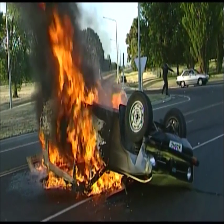fire_h: (47, 7, 105, 183), (88, 168, 123, 195), (44, 170, 71, 190)
fire_l: (112, 90, 127, 109), (38, 127, 46, 152), (35, 157, 48, 171), (40, 2, 46, 10)
